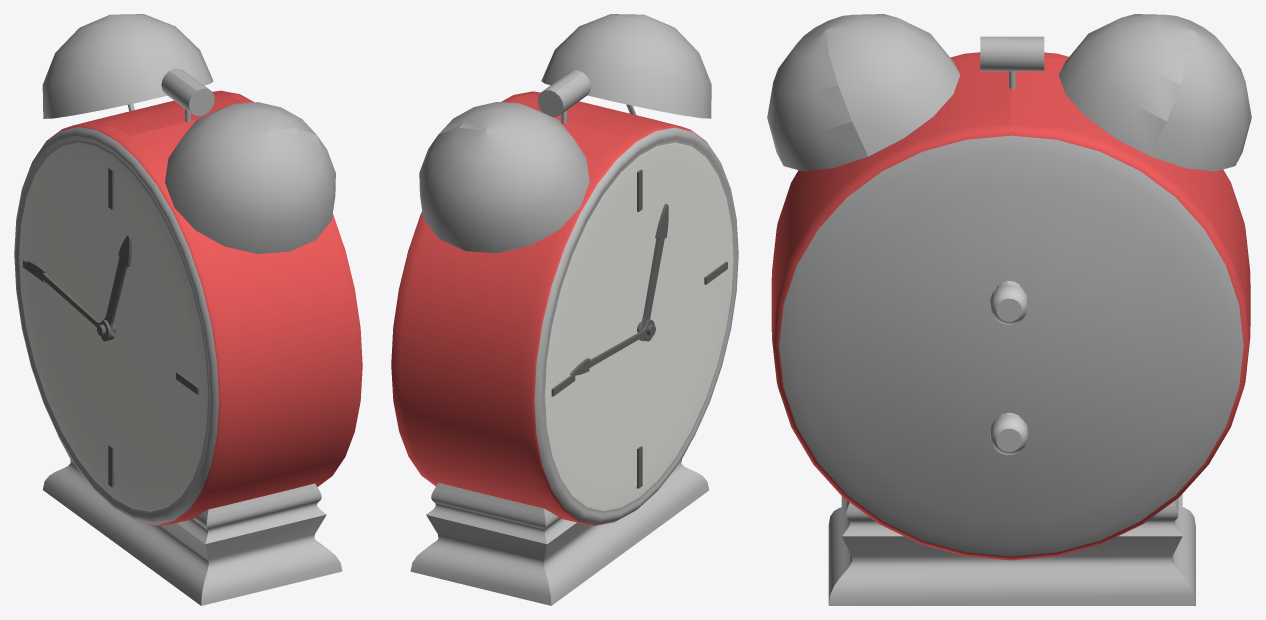
The model's file is Time.fbx.
3 views of the same model, side by side, from view 1: azimuth 30°, elevation 25°; view 2: azimuth 150°, elevation 25°; view 3: azimuth 270°, elevation 25° (orthographic). The views are drawn at different scales.
Visible parts, largest first — view 1: Cylinder05, Sphere03, Rectangle4, Sphere02, Cylinder06, Circle05, Circle06; view 2: Cylinder05, Sphere02, Rectangle4, Sphere03, Cylinder06, Circle05, Circle06; view 3: Cylinder05, Rectangle4, Sphere03, Sphere02, Cylinder06, Cylinder00, Cylinder07.
Boxes of the visible parts, x1,y1,x2,y2 form: Cylinder05: [14, 90, 362, 526]; Sphere03: [165, 102, 335, 253]; Rectangle4: [43, 436, 342, 605]; Sphere02: [42, 14, 213, 118]; Cylinder06: [161, 68, 214, 115]; Circle05: [101, 235, 131, 340]; Circle06: [26, 260, 111, 341]; Cylinder05: [391, 91, 738, 525]; Sphere02: [419, 101, 589, 253]; Rectangle4: [410, 445, 709, 605]; Sphere03: [541, 14, 711, 118]; Cylinder06: [537, 70, 590, 117]; Circle05: [637, 204, 668, 341]; Circle06: [570, 319, 654, 375]; Cylinder05: [771, 52, 1250, 560]; Rectangle4: [828, 494, 1195, 605]; Sphere03: [767, 14, 960, 171]; Sphere02: [1058, 14, 1251, 171]; Cylinder06: [980, 36, 1044, 71]; Cylinder00: [990, 280, 1028, 324]; Cylinder07: [990, 412, 1028, 455].
Size of the model in its own units: 29.9 by 61.86 by 50.18.
